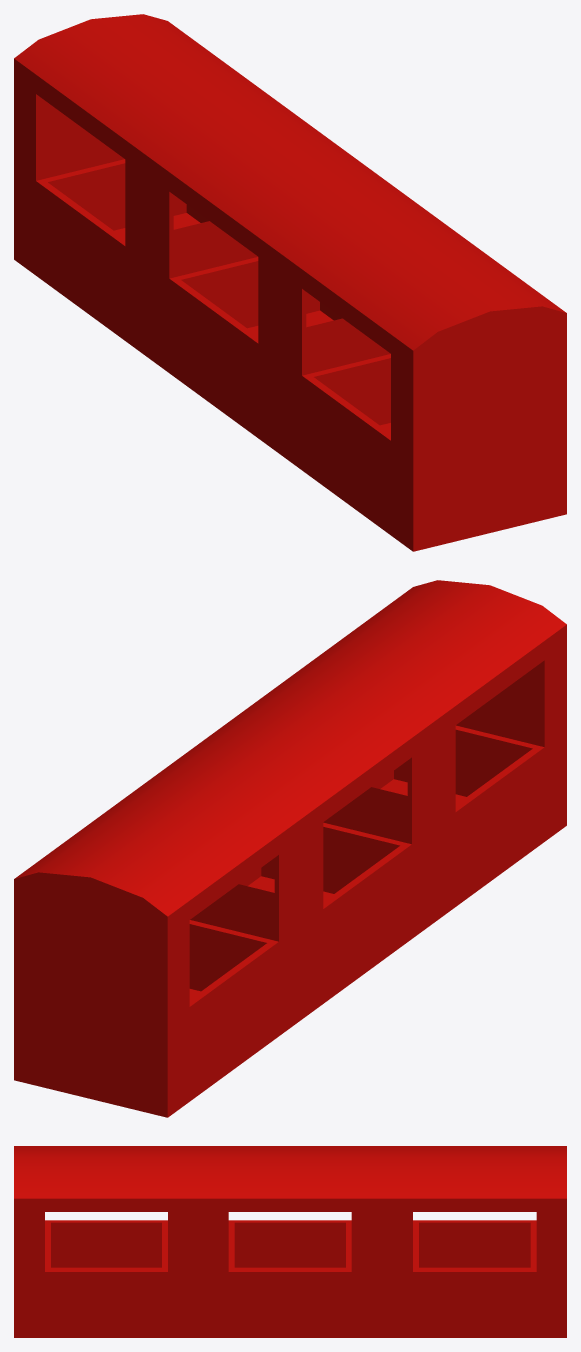
The model's file is train.fbx.
3 renders of one model, top to bottom at view 1: azimuth 30°, elevation 25°; view 2: azimuth 150°, elevation 25°; view 3: azimuth 270°, elevation 25°, orthographic. The views are drawn at different scales.
Parts seen in each view (by area): view 1: Box003; view 2: Box003; view 3: Box003.
Part boxes in pixels (x1,y1,x2,y2): Box003: (14, 14, 566, 551); Box003: (14, 580, 566, 1117); Box003: (14, 1146, 566, 1337).
Bounding box in the file's own units: 80.06 × 110 × 360.
